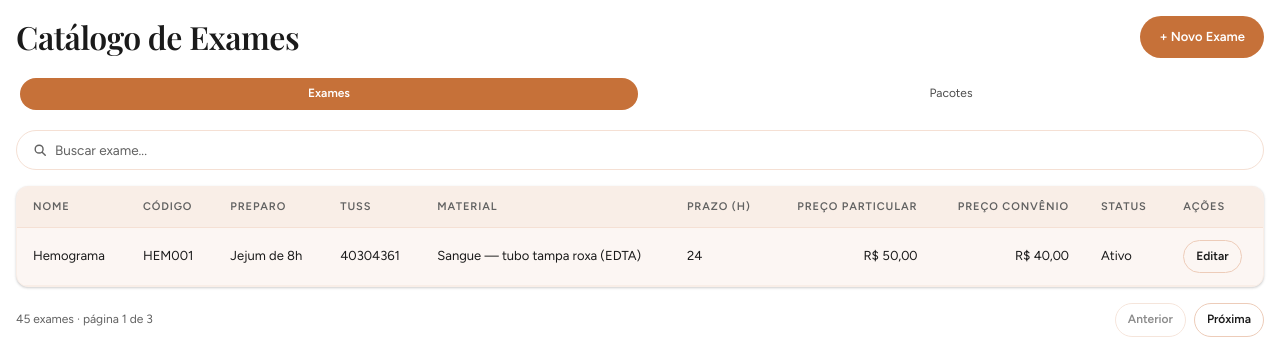
Catalog › aba Pacotes (CRMLAB-10) › troca para a tabela de pacotes ao clicar na aba
Expected: the cell "Hemograma" is shown, [17,227,127,286]
Expected: the column heading "Código" is shown, [127,187,214,227]
Step 1. Click the tab "Pacotes" → (951, 94), box [642,78,1260,110]
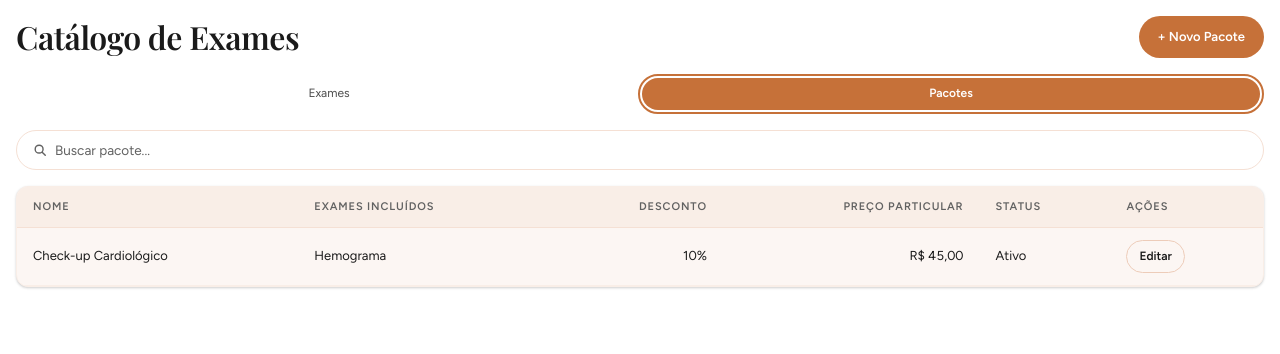
Expected: the text "Check-up Cardiológico" is shown, [17,227,298,286]
Expected: the column heading "Código" is gone
